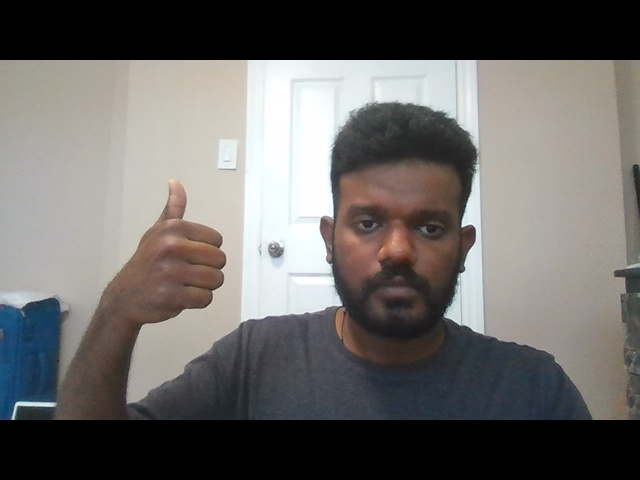yes: (121, 175, 228, 330)
